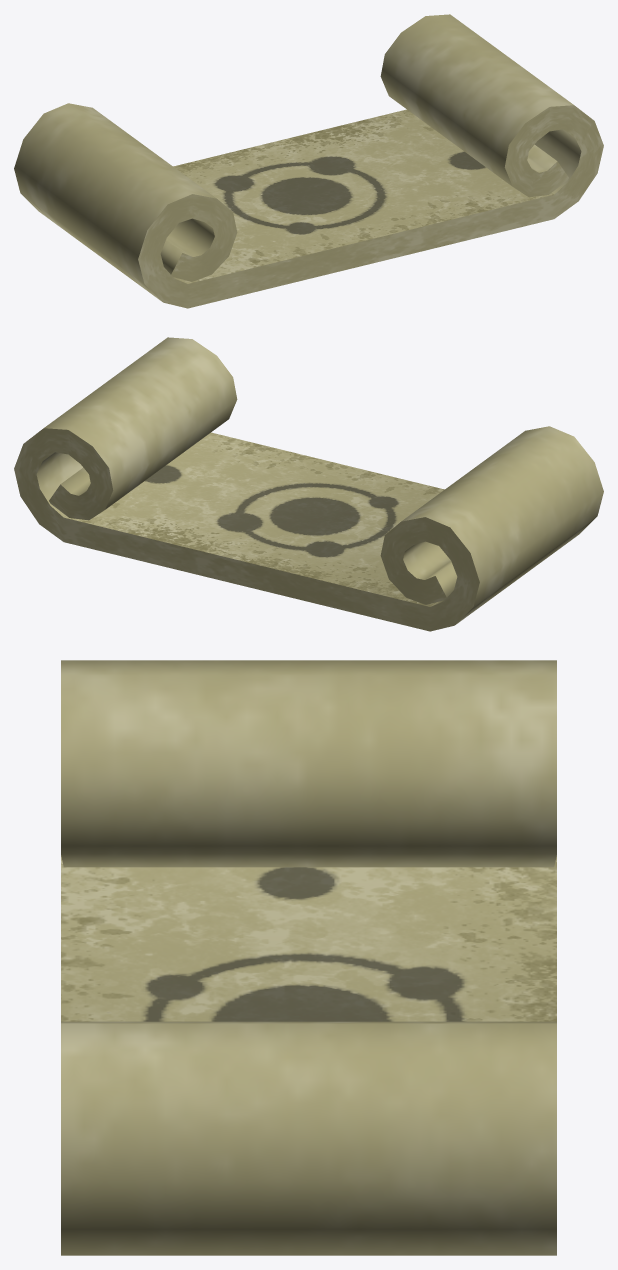
Rendered from AO Scroll 2.fbx.
The picture shows the model from 3 angles, top to bottom: view 1: azimuth 30°, elevation 25°; view 2: azimuth 150°, elevation 25°; view 3: azimuth 270°, elevation 25°; orthographic projection. The views are drawn at different scales.
Visible parts, largest first — view 1: Scroll 2; view 2: Scroll 2; view 3: Scroll 2.
Part boxes in pixels (x1,y1,x2,y2): Scroll 2: (14,14,603,308); Scroll 2: (14,337,603,631); Scroll 2: (61,660,556,1255).
Size of the model in its own units: 244 by 56.72 by 112.
